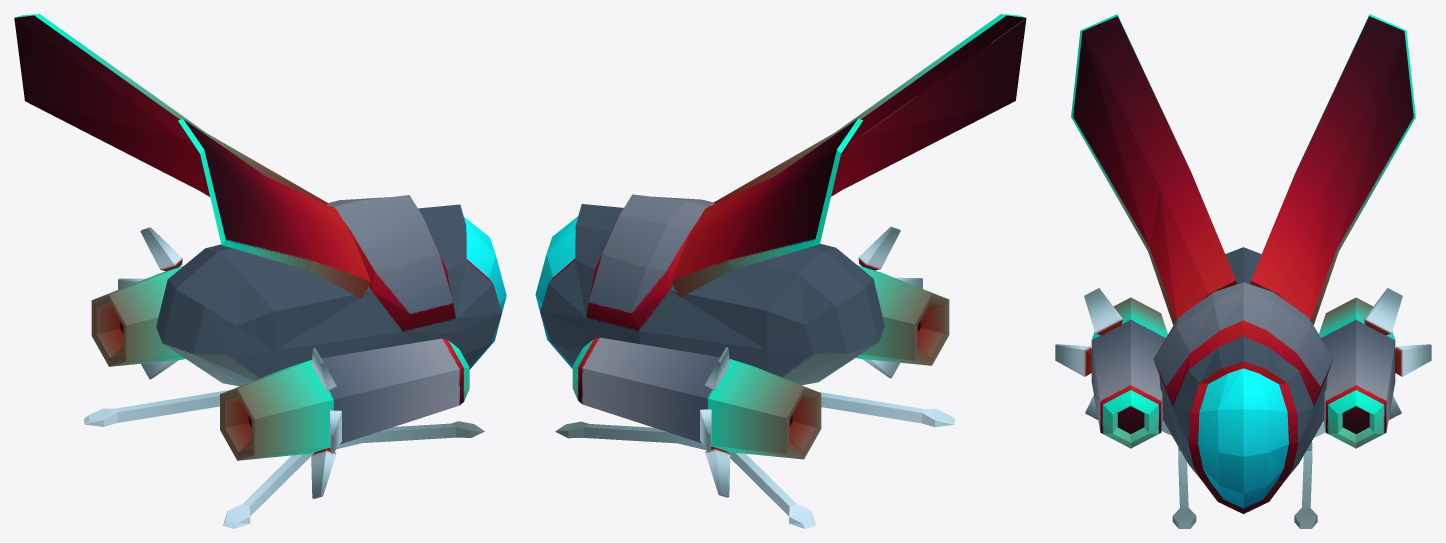
File: SM_APP_Spaceship_skin1.glb
The picture shows the model from 3 angles, left to right: view 1: azimuth 30°, elevation 25°; view 2: azimuth 150°, elevation 25°; view 3: azimuth 270°, elevation 25°; orthographic projection. The views are drawn at different scales.
Parts seen in each view (by area): view 1: SM_APP_Spaceship_skin1; view 2: SM_APP_Spaceship_skin1; view 3: SM_APP_Spaceship_skin1.
Boxes of the visible parts, x1,y1,x2,y2 form: SM_APP_Spaceship_skin1: [14, 14, 506, 528]; SM_APP_Spaceship_skin1: [535, 14, 1026, 528]; SM_APP_Spaceship_skin1: [1055, 14, 1431, 528].
Size of the model in its own units: 8.92 by 9.04 by 8.36.
1 material, 1 textured.
